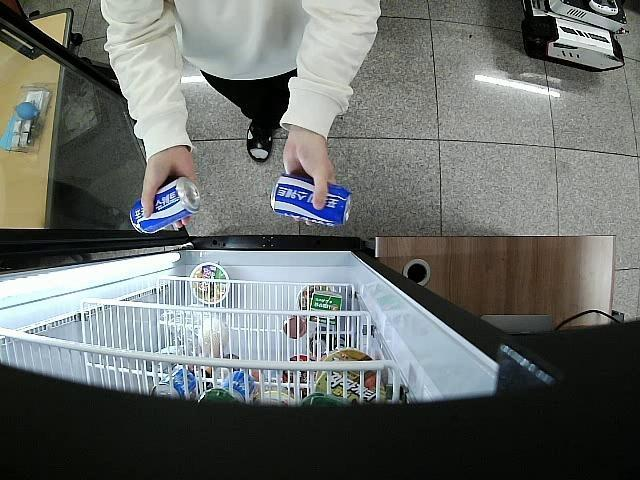13_pocariSweat: (269, 176, 352, 226), (129, 178, 198, 235)
